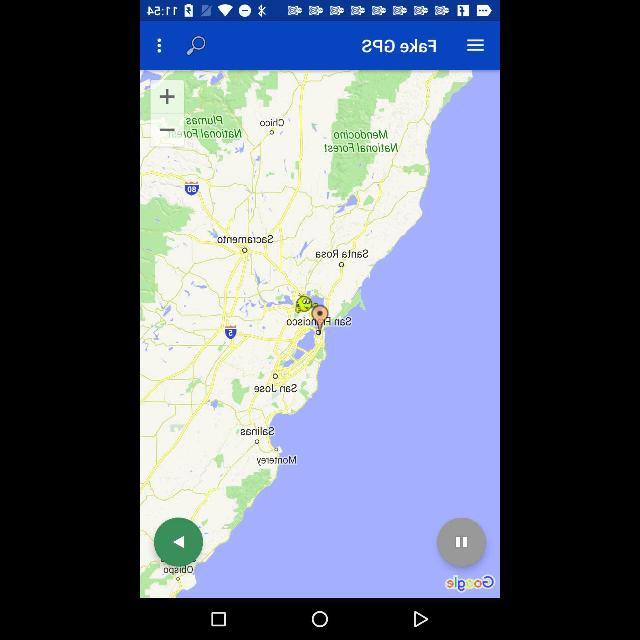icon: (186, 36, 206, 58), (312, 612, 328, 628), (414, 612, 428, 628), (468, 38, 482, 52), (212, 613, 226, 627), (156, 36, 162, 54)
map: (140, 69, 500, 597)
panel: (140, 598, 500, 640)
text: (362, 37, 434, 55)
toolbar: (140, 21, 500, 69)
uppertaskbar: (140, 1, 500, 22)
